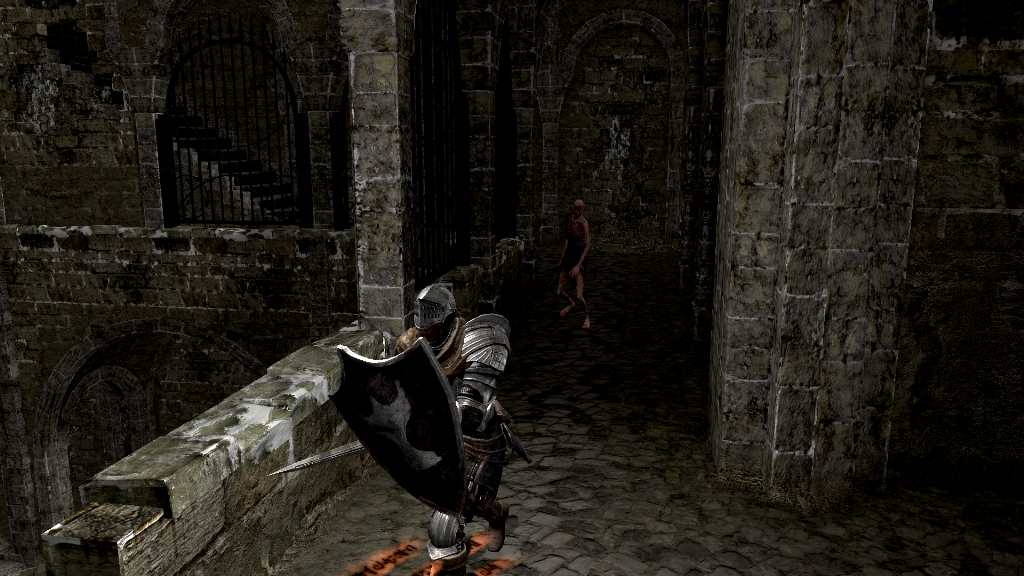hollow: (555, 199, 592, 330)
player: (267, 283, 515, 576)
